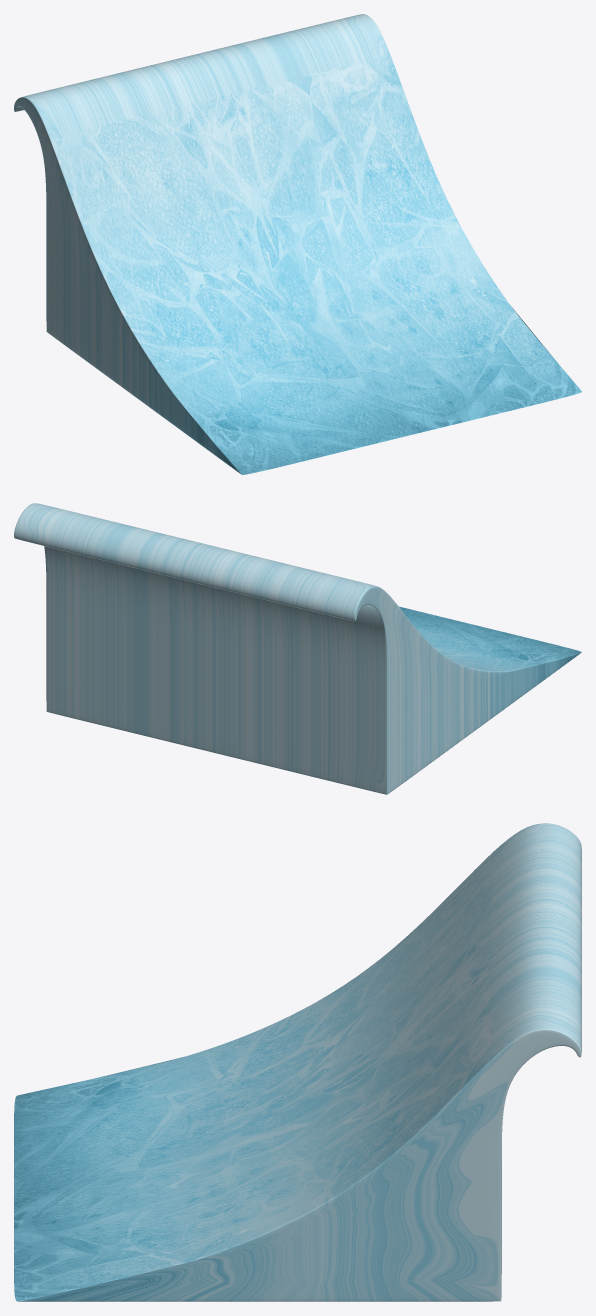
The model's file is 4jmp2.fbx.
The picture shows the model from 3 angles, top to bottom: view 1: azimuth 30°, elevation 25°; view 2: azimuth 150°, elevation 25°; view 3: azimuth 270°, elevation 25°; orthographic projection. The views are drawn at different scales.
Visible parts, largest first — view 1: Plane.007; view 2: Plane.007; view 3: Plane.007.
Part boxes in pixels (left/top/right/bottom): Plane.007: left=14, top=14, right=581, bottom=474; Plane.007: left=14, top=503, right=581, bottom=794; Plane.007: left=14, top=823, right=581, bottom=1301.
Size of the model in its own units: 1507 by 929 by 1750.
1 material, 1 textured.
